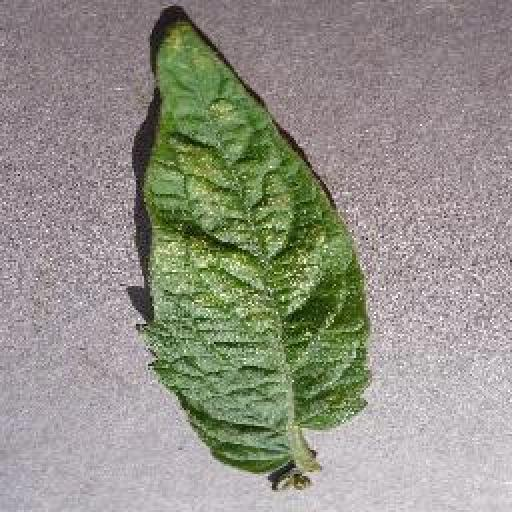disease_tomato: (136, 10, 370, 474)
